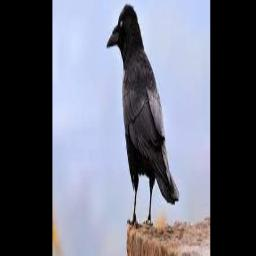Crow: (106, 2, 179, 226)
